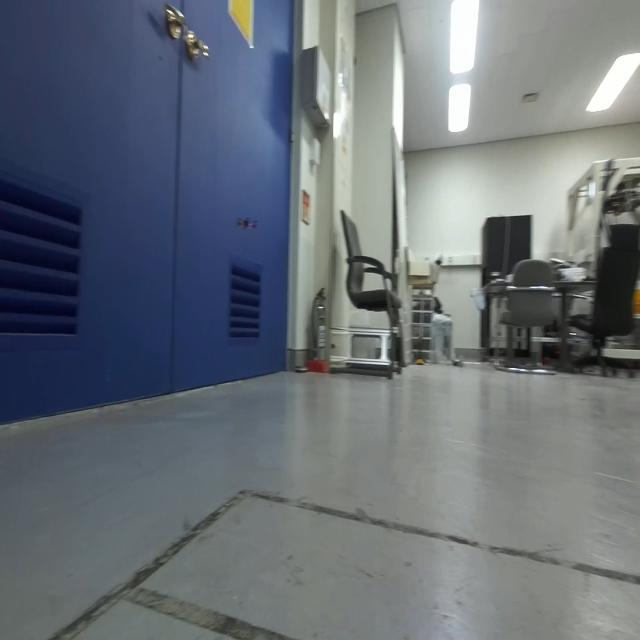crazyflie: (234, 209, 258, 239)
